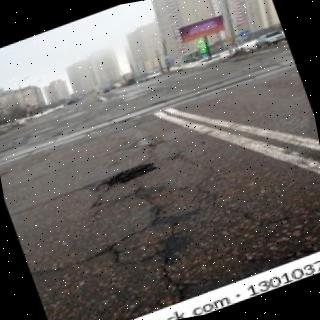pothole: (87, 163, 157, 188)
